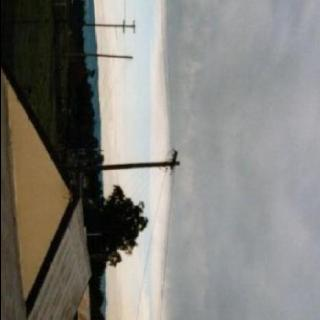Nimbostratus: (155, 0, 320, 320)
